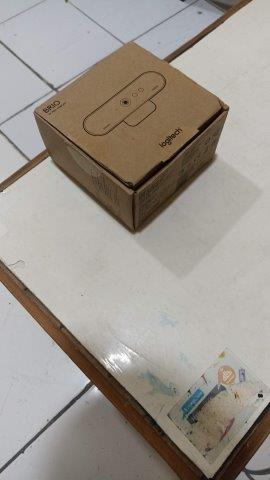kardus: (34, 42, 226, 192)
